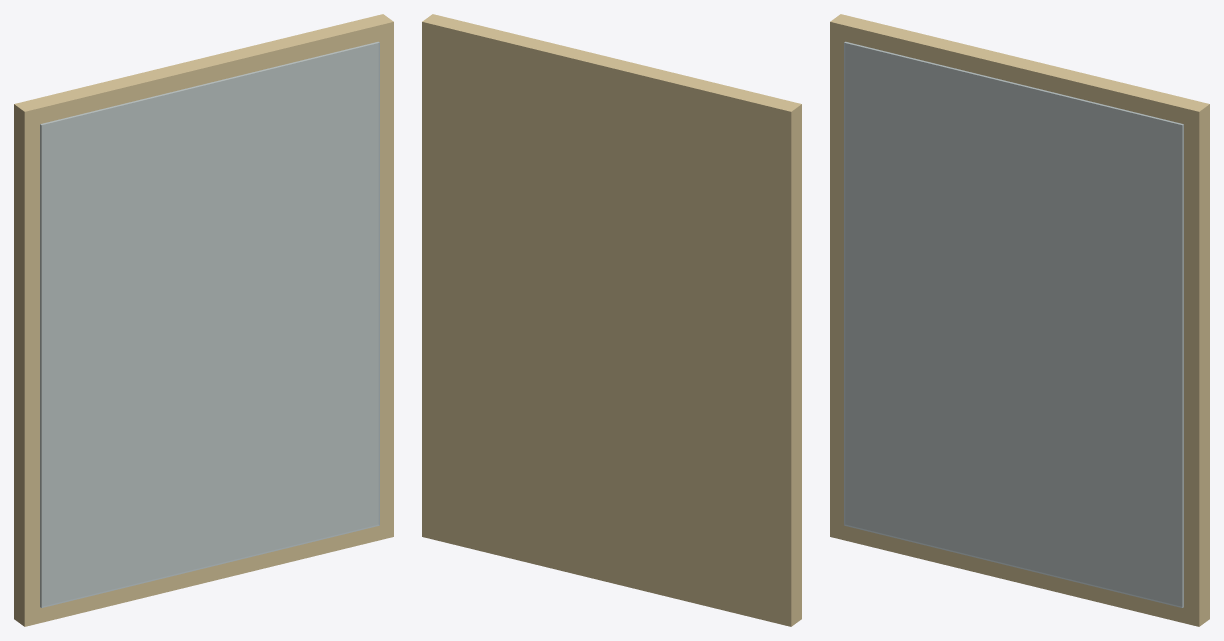
Rendered from espelho_60x80.glb.
The picture shows the model from 3 angles, left to right: view 1: azimuth 30°, elevation 25°; view 2: azimuth 150°, elevation 25°; view 3: azimuth 330°, elevation 25°; orthographic projection.
Visible parts, largest first — view 1: espelho_60x80; view 2: espelho_60x80; view 3: espelho_60x80.
Boxes of the visible parts, left/top/right/bottom form: espelho_60x80: left=14, top=14, right=393, bottom=626; espelho_60x80: left=422, top=14, right=801, bottom=626; espelho_60x80: left=830, top=14, right=1209, bottom=626.
Size of the model in its own units: 0.6 by 0.8 by 0.034.
